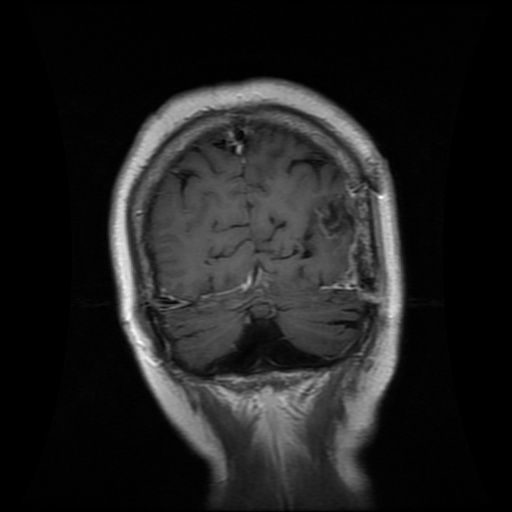glioma: (314, 194, 355, 240)
